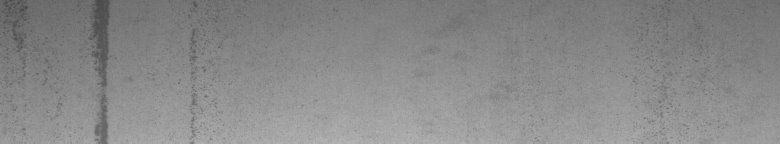hd: (4, 4, 113, 136)
